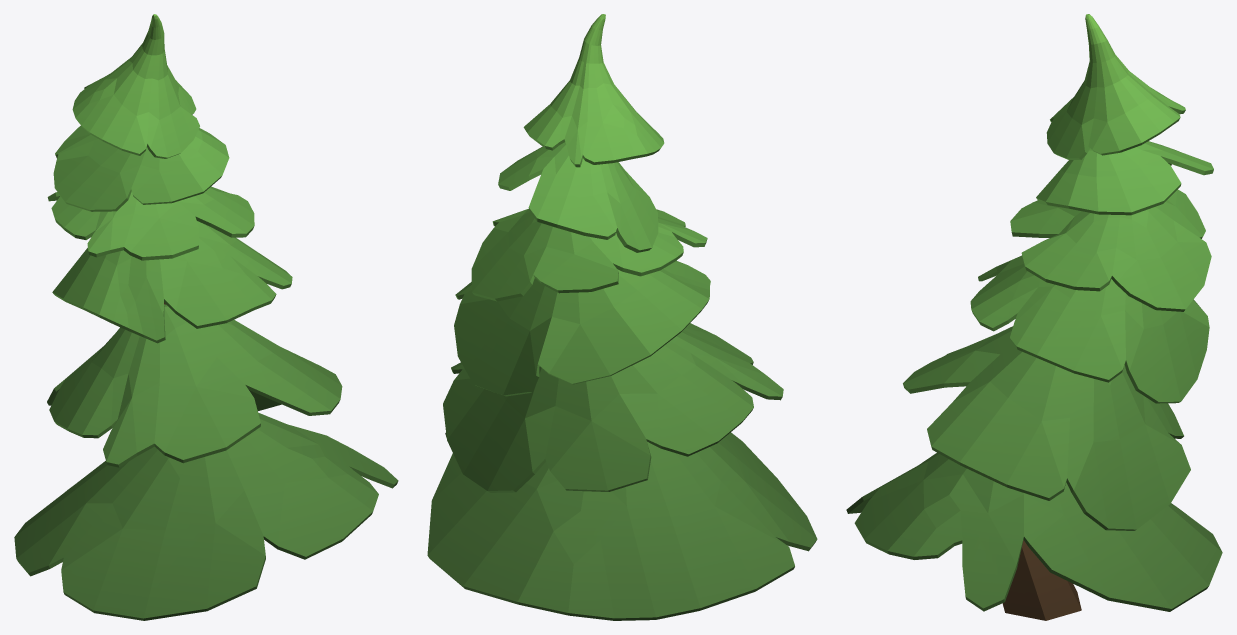
The model's file is PineTree3.fbx.
3 renders of one model, left to right at view 1: azimuth 30°, elevation 25°; view 2: azimuth 150°, elevation 25°; view 3: azimuth 270°, elevation 25°, orthographic. The views are drawn at different scales.
Visible parts, largest first — view 1: PineTree_3_Cylinder.025; view 2: PineTree_3_Cylinder.025; view 3: PineTree_3_Cylinder.025.
Part boxes in pixels (<box>): PineTree_3_Cylinder.025: <box>14,14,398,620</box>; PineTree_3_Cylinder.025: <box>427,14,817,620</box>; PineTree_3_Cylinder.025: <box>846,14,1222,620</box>.
Bounding box in the file's own units: 216 × 330 × 195.
